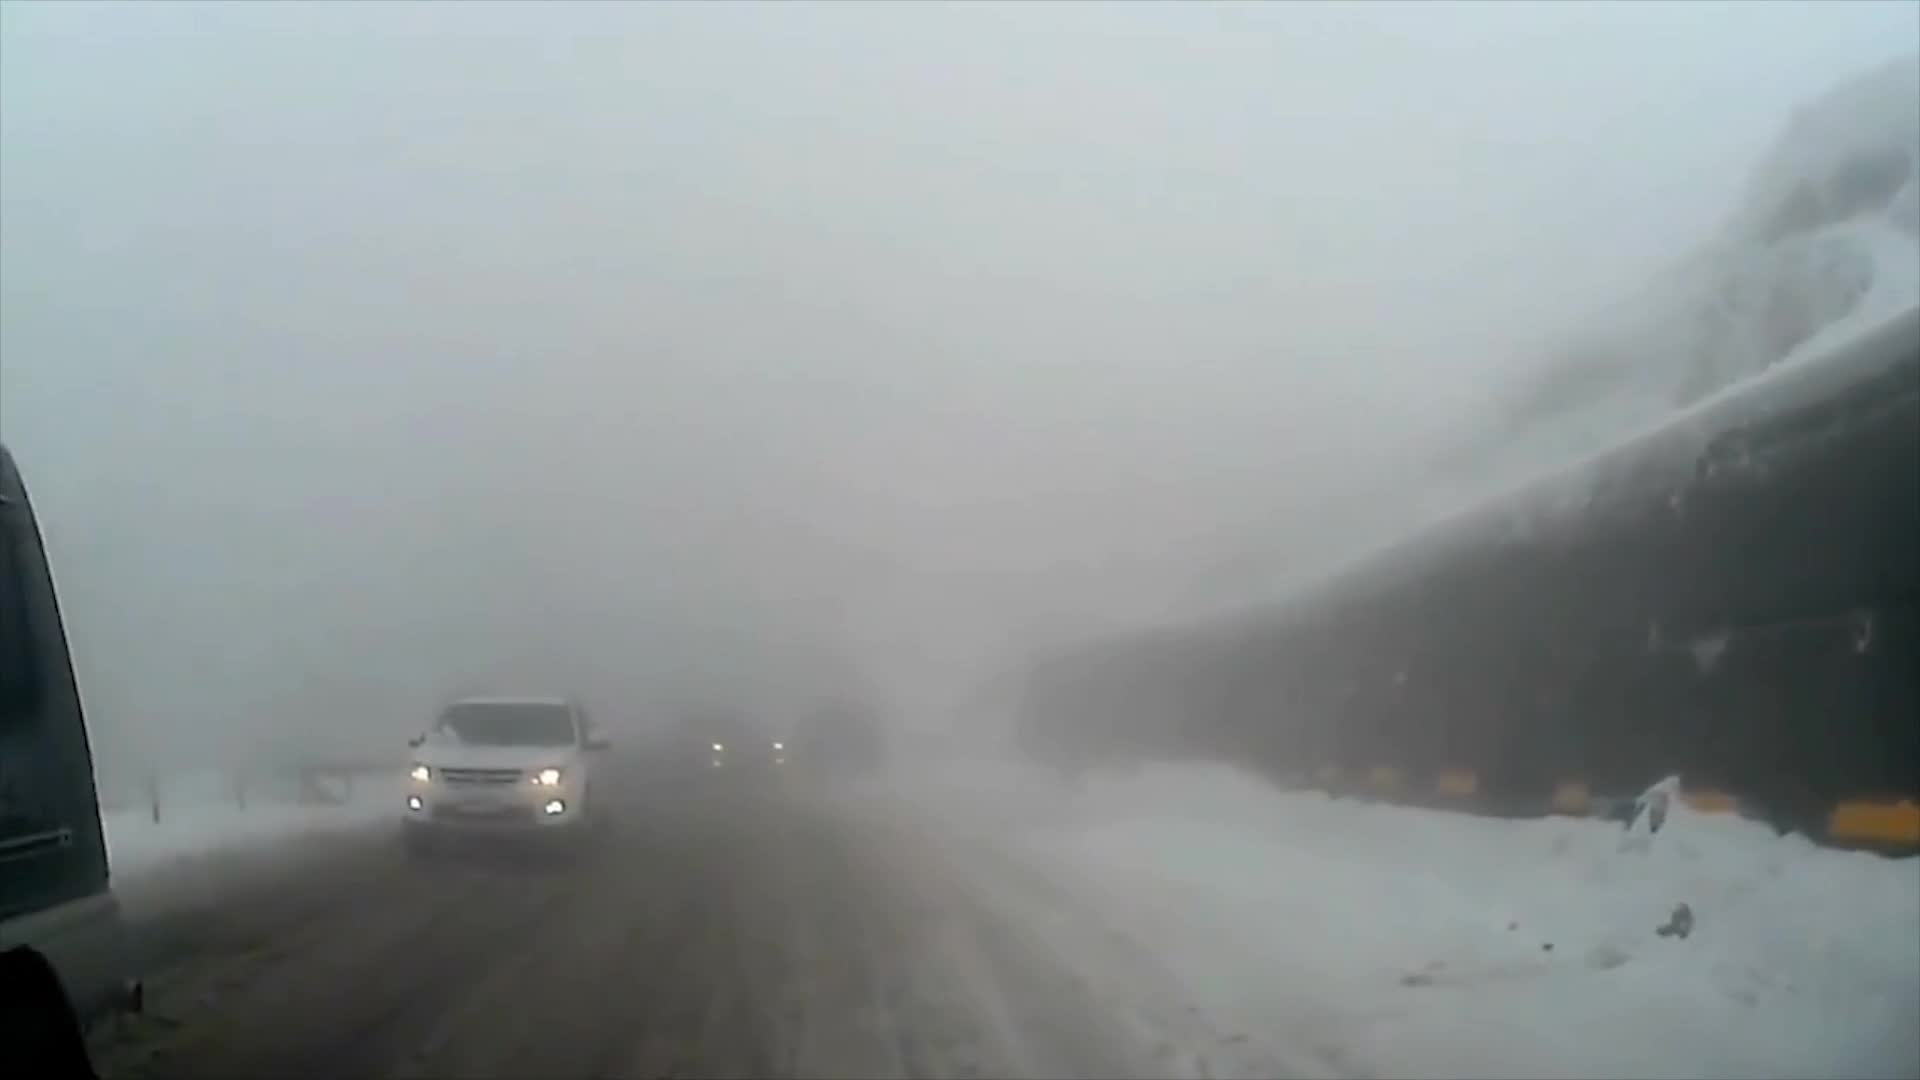vehicle: (0, 440, 150, 1080), (397, 688, 618, 860)
